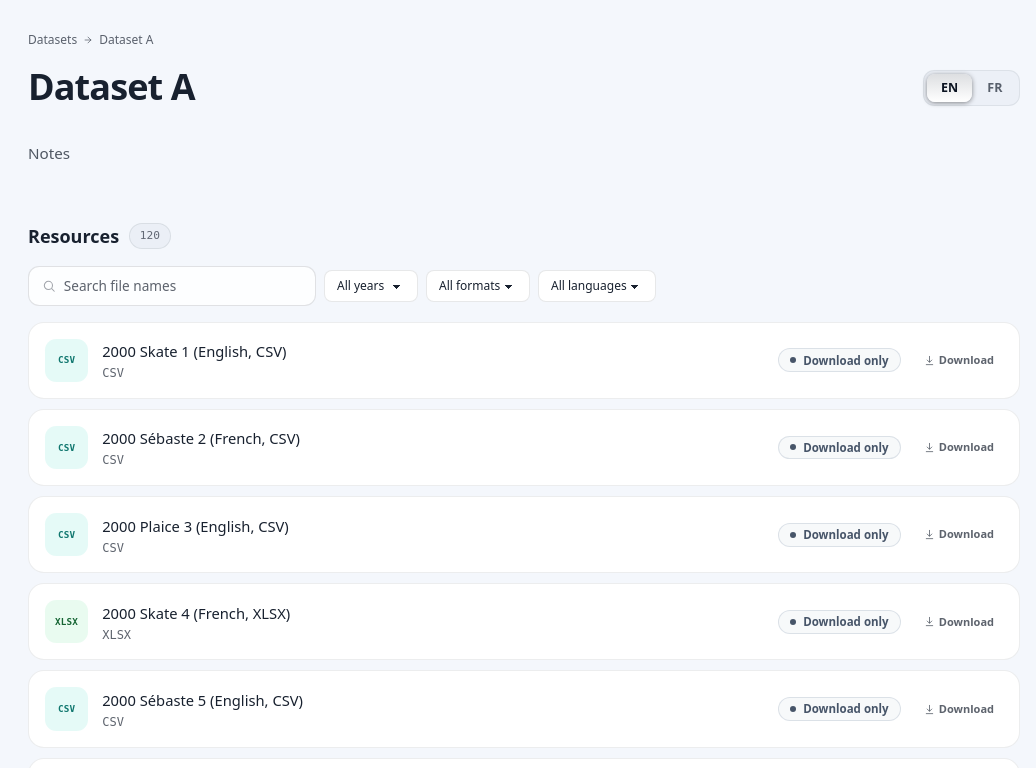
Test: DatasetPage file filter › narrows the files by name, year and language with counts that follow the other choices
Expected: the text "Showing" is not shown
Step 1. Type "skate" into the field labelled "Search file names" → (183, 286), box x1=64 y1=267 x2=302 y2=305
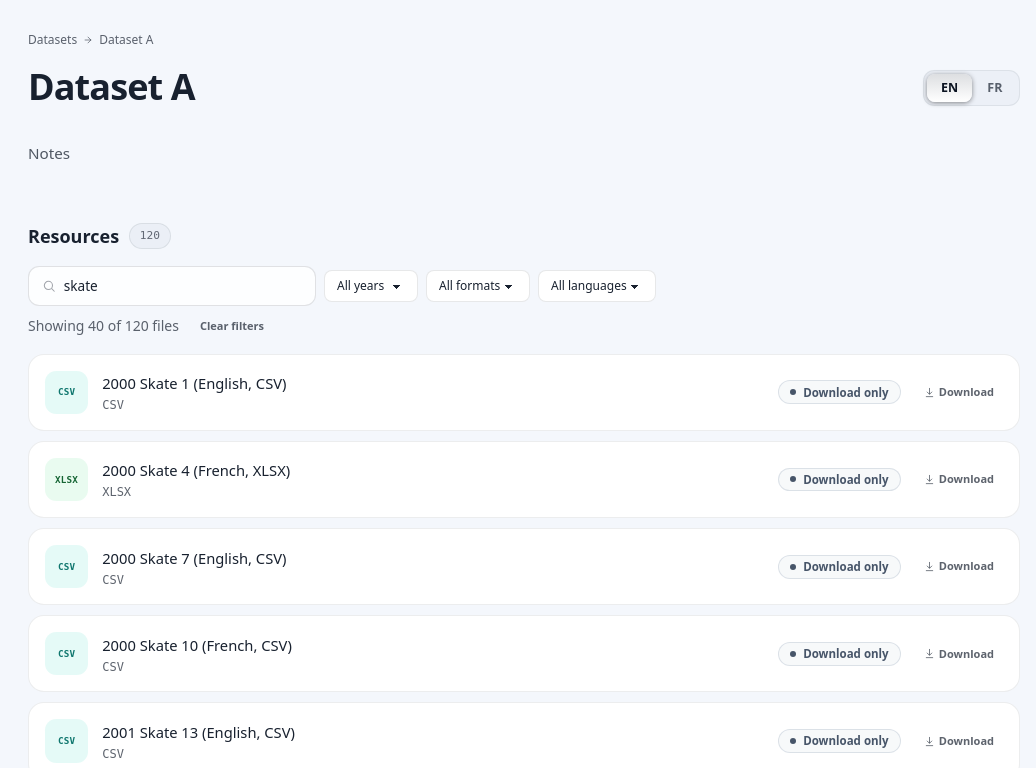
Expected: the link "2000 Skate 1 (English, CSV)" is shown, x1=102 y1=373 x2=286 y2=393
Expected: the text "Showing 40 of 120 files" is shown, x1=28 y1=316 x2=179 y2=336
Step 2. Select "2001 (3)" in the dropdown named "Year" → (371, 286), box x1=324 y1=270 x2=418 y2=302
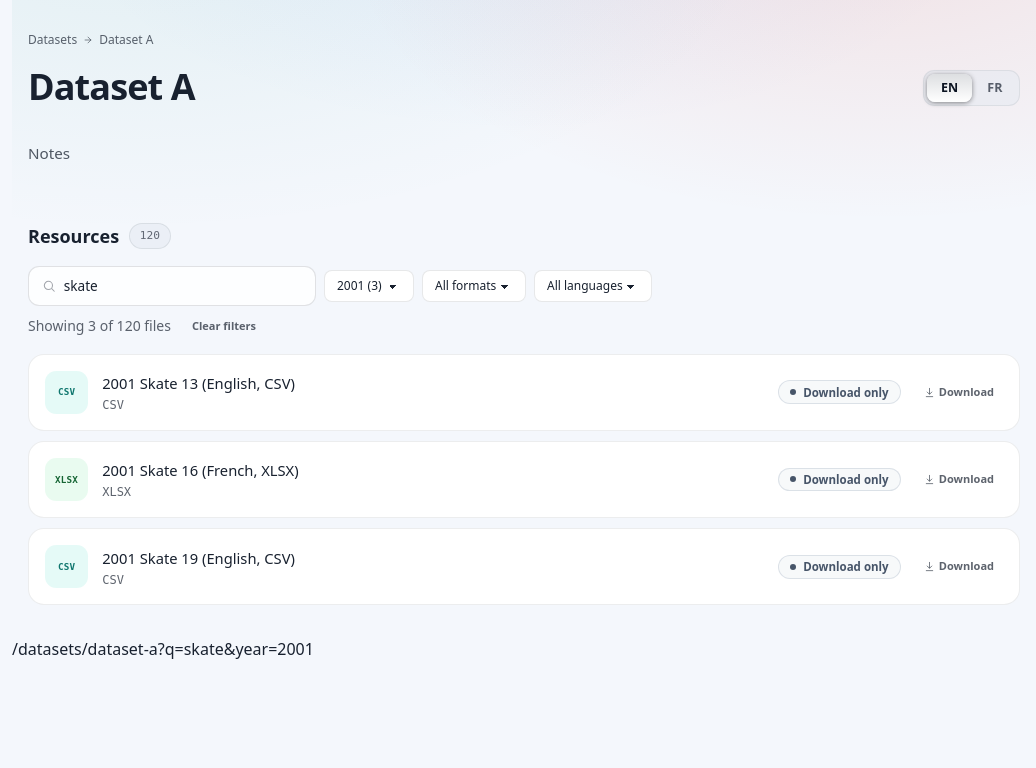
Expected: the text "Showing 3 of 120 files" is shown, x1=28 y1=316 x2=171 y2=336
Step 3. Select "French (1)" in the dropdown named "Language" → (593, 286), box x1=534 y1=270 x2=652 y2=302
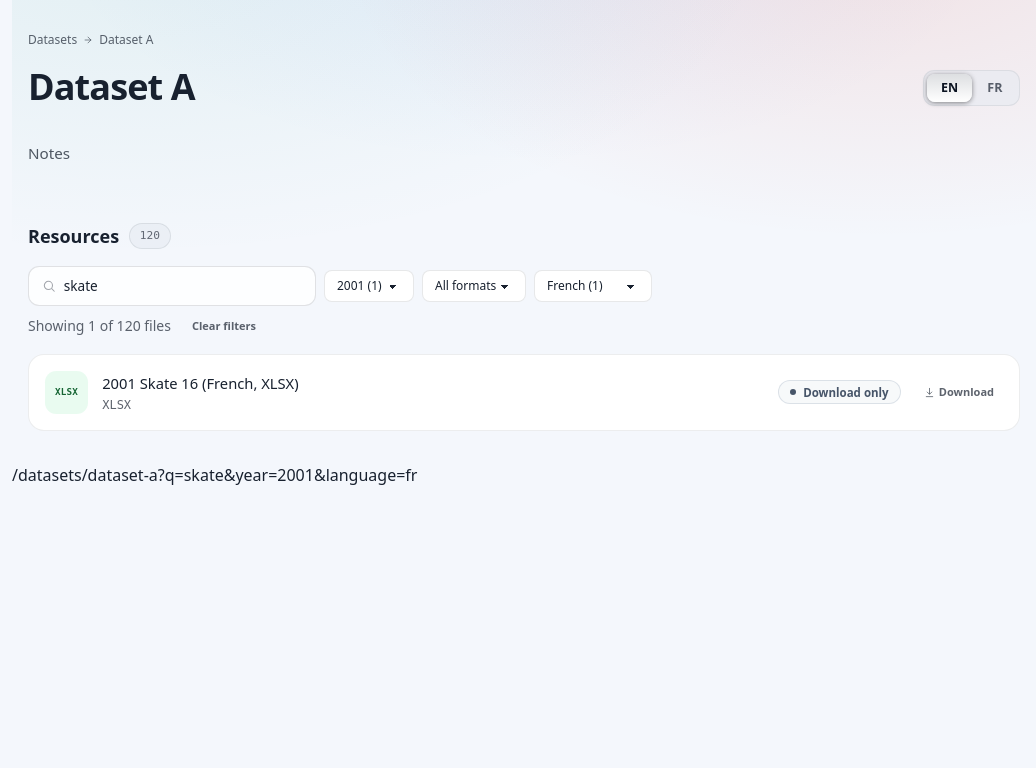
Expected: the text with test id "location" reads "/datasets/dataset-a?q=skate&year=2001&language=fr", x1=12 y1=464 x2=418 y2=486
